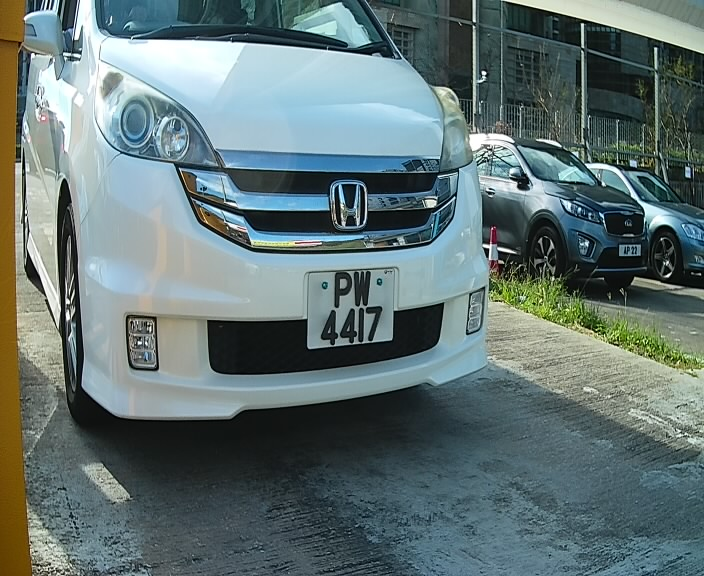Car: (4, 2, 522, 466)
License Plate: (299, 256, 408, 359)
